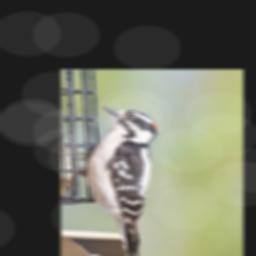Woodpecker: (77, 105, 159, 256)
